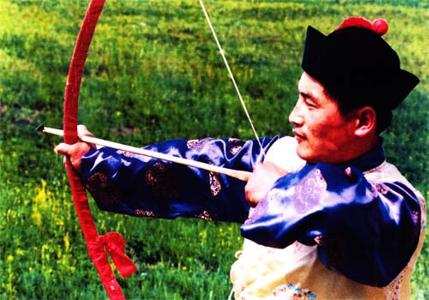person: (57, 20, 427, 300)
